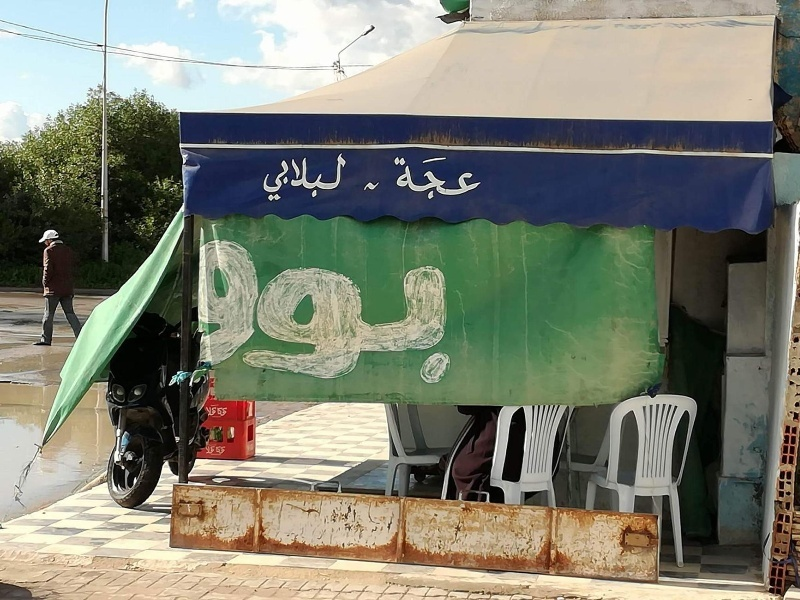text: (209, 236, 224, 393), (225, 236, 240, 393), (241, 236, 256, 393), (257, 236, 272, 393), (273, 236, 288, 393), (289, 236, 304, 393), (305, 236, 320, 393), (321, 236, 336, 393), (337, 236, 352, 393), (353, 236, 368, 393), (369, 236, 384, 393), (385, 236, 400, 393), (401, 236, 416, 393), (417, 236, 432, 393), (433, 236, 448, 393), (199, 236, 208, 393), (401, 156, 416, 209), (417, 156, 432, 209), (433, 156, 448, 209), (449, 156, 464, 209), (465, 156, 480, 209), (273, 153, 288, 203), (289, 153, 304, 203), (305, 153, 320, 203), (321, 153, 336, 203), (337, 153, 347, 203), (263, 153, 272, 203), (393, 156, 400, 209), (481, 156, 488, 209), (209, 407, 224, 418), (449, 236, 450, 393), (369, 180, 380, 193), (209, 446, 224, 455), (364, 180, 368, 193), (225, 407, 229, 418), (205, 446, 208, 455), (206, 407, 208, 418), (225, 446, 227, 455)
